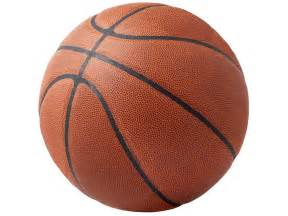basketball: (38, 2, 255, 216)
